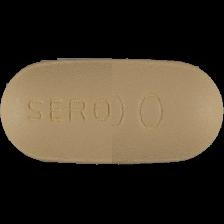67046-666: (0, 0, 224, 224)
